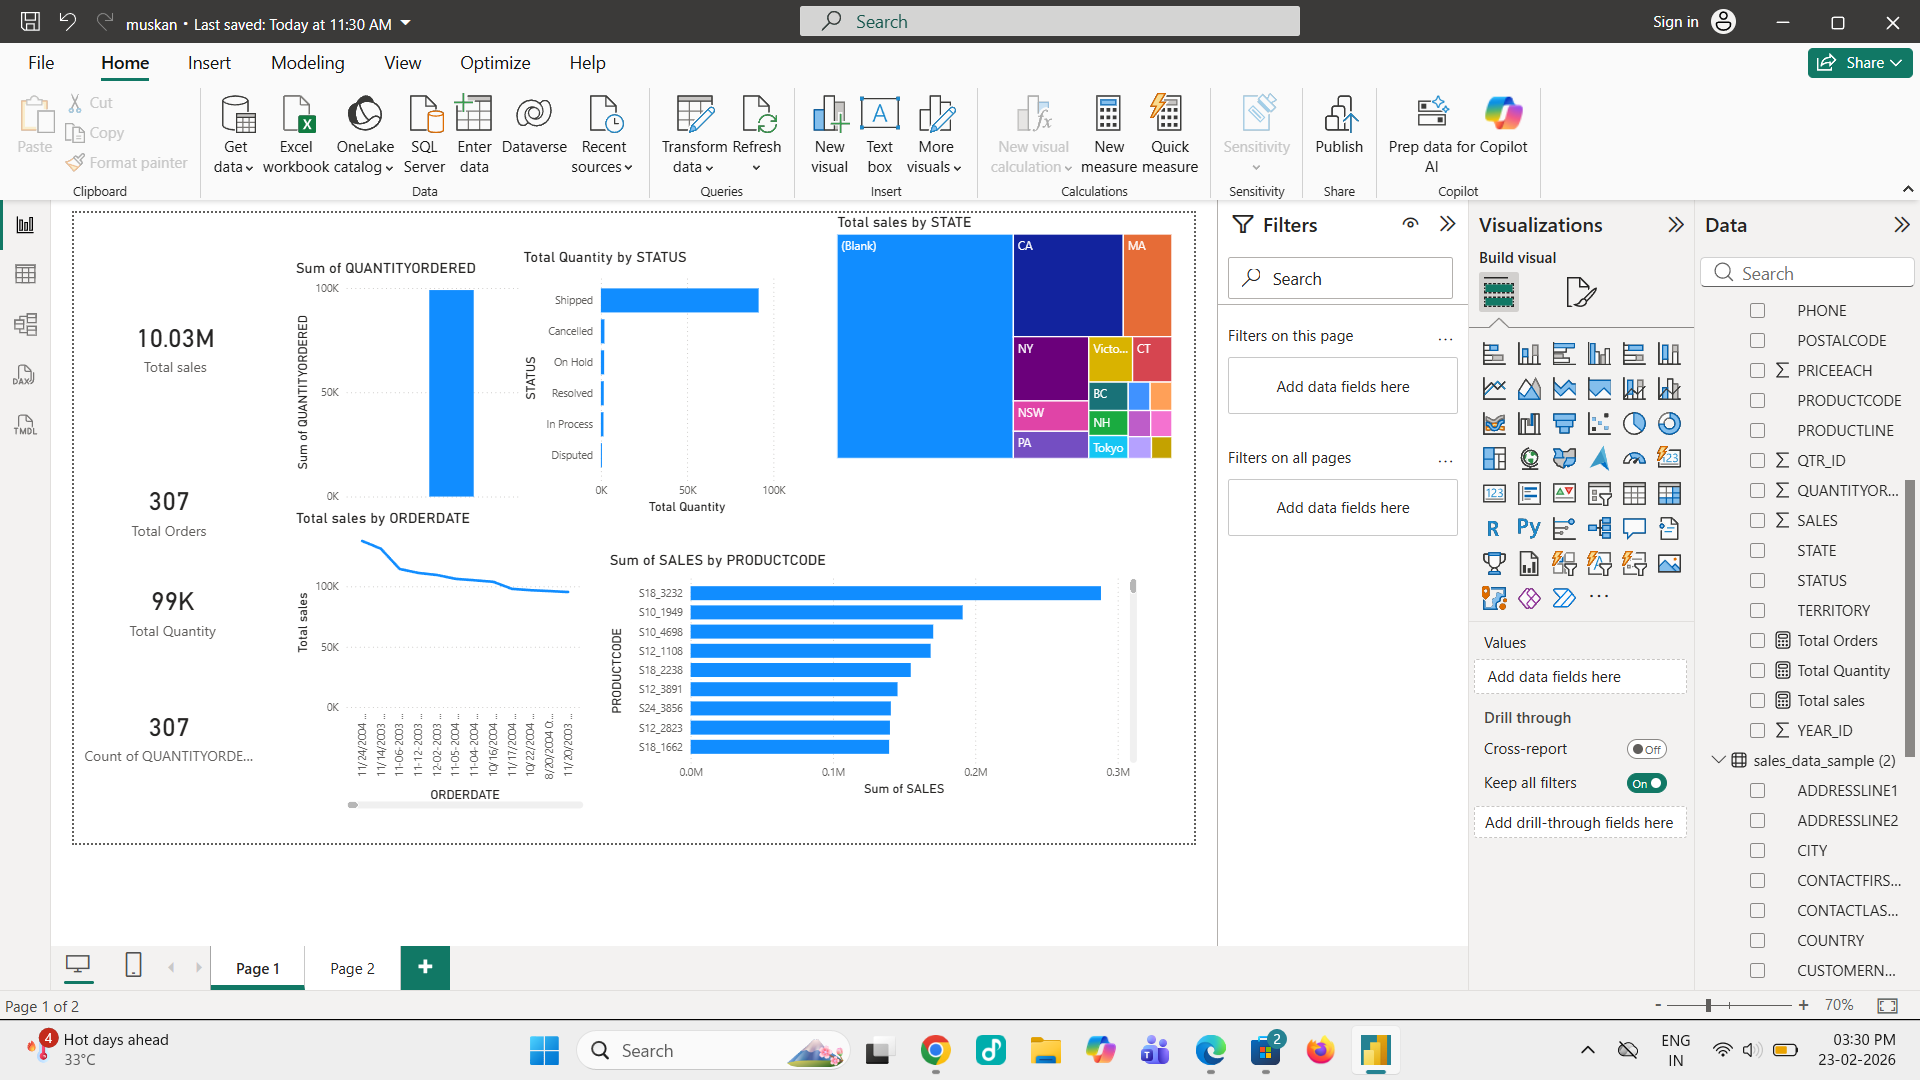

Layout of this report page (visuals, bound fields, positions):
{"tool":"powerbi","page":{"name":"Page 1","canvas":[1280,720],"ordinal":0},"visuals":[{"type":"card","fields":{"Values":["sales_data_sample.Total sales"]},"box":[15.1,16.5,200.3,269],"z":0},{"type":"card","fields":{"Values":["sales_data_sample.Total Orders"]},"box":[0,219.6,197.6,216.8],"z":1000},{"type":"clusteredColumnChart","fields":{"Y":["Sum(sales_data_sample.QUANTITYORDERED)"]},"box":[248.4,52.1,310.1,285.4],"z":2000},{"type":"card","fields":{"Values":["sales_data_sample.Total Orders"]},"box":[10,229.6,197.6,216.8],"z":3000},{"type":"card","fields":{"Values":["sales_data_sample.Total Quantity"]},"box":[9.6,402.1,205.8,102.9],"z":4000},{"type":"card","fields":{"Values":["CountNonNull(sales_data_sample (2).QUANTITYORDERED)"]},"box":[5.5,521.4,205.8,149.6],"z":5000},{"type":"clusteredBarChart","fields":{"Category":["sales_data_sample (2).STATUS"],"Y":["sales_data_sample.Total Quantity"]},"box":[508.6,40,310,308.6],"z":6000},{"type":"lineChart","fields":{"Y":["sales_data_sample.Total sales"],"Category":["sales_data_sample.ORDERDATE"]},"box":[248.6,338.6,338.6,347.1],"z":7000},{"type":"clusteredBarChart","fields":{"Category":["sales_data_sample.PRODUCTCODE"],"Y":["Sum(sales_data_sample.SALES)"]},"box":[607.1,385.7,612.9,285.7],"z":8000},{"type":"treemap","fields":{"Values":["sales_data_sample.Total sales"],"Group":["sales_data_sample.STATE"]},"box":[867.1,0,392.9,285.7],"z":9000}]}

Visuals, with their boxes on the page's 1280x720 design canvas (x1, y1, x2, y2). These are canvas units, not pixel positions in the 1920x1080 screenshot, which may show the page scaled, cropped or inside an application window:
card - sales_data_sample.Total sales: {"left": 15, "top": 16, "right": 215, "bottom": 286}
card - sales_data_sample.Total Orders: {"left": 0, "top": 220, "right": 198, "bottom": 436}
clusteredColumnChart - Sum(sales_data_sample.QUANTITYORDERED): {"left": 248, "top": 52, "right": 558, "bottom": 338}
card - sales_data_sample.Total Orders: {"left": 10, "top": 230, "right": 208, "bottom": 446}
card - sales_data_sample.Total Quantity: {"left": 10, "top": 402, "right": 215, "bottom": 505}
card - CountNonNull(sales_data_sample (2).QUANTITYORDERED): {"left": 6, "top": 521, "right": 211, "bottom": 671}
clusteredBarChart - sales_data_sample (2).STATUS x sales_data_sample.Total Quantity: {"left": 509, "top": 40, "right": 819, "bottom": 349}
lineChart - sales_data_sample.Total sales x sales_data_sample.ORDERDATE: {"left": 249, "top": 339, "right": 587, "bottom": 686}
clusteredBarChart - sales_data_sample.PRODUCTCODE x Sum(sales_data_sample.SALES): {"left": 607, "top": 386, "right": 1220, "bottom": 671}
treemap - sales_data_sample.Total sales x sales_data_sample.STATE: {"left": 867, "top": 0, "right": 1260, "bottom": 286}
